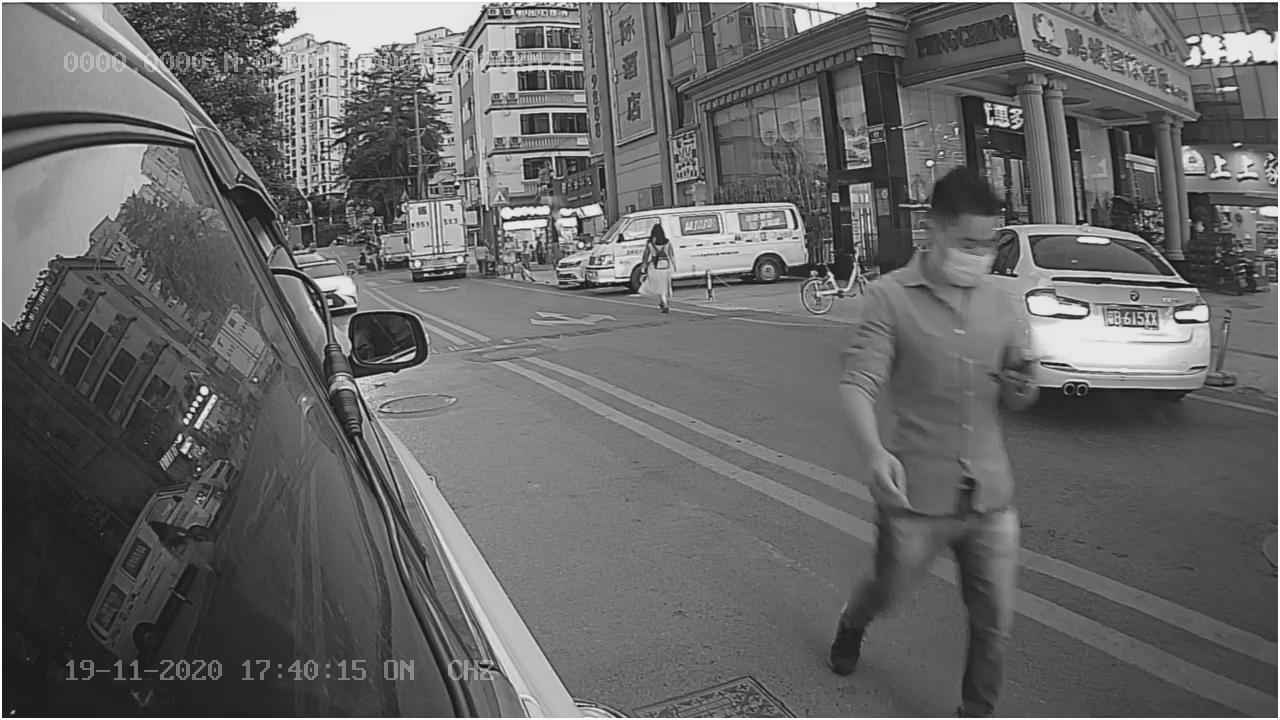person: (825, 172, 1044, 695)
